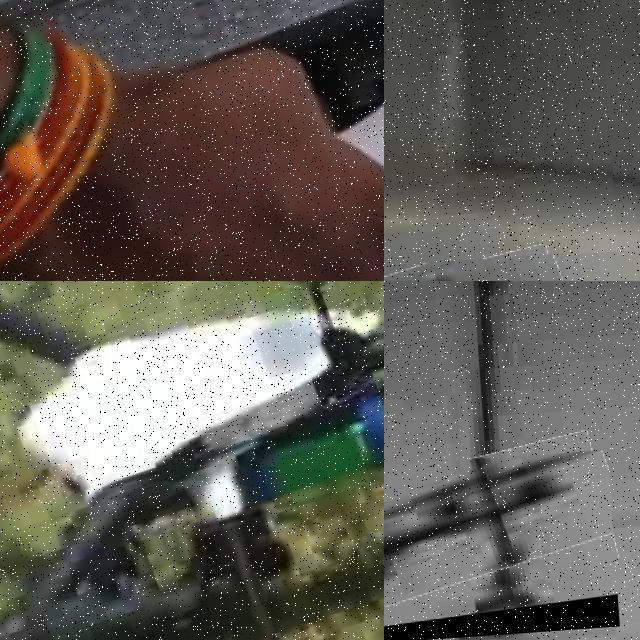drone: (0, 281, 384, 640), (0, 0, 384, 281), (384, 449, 619, 640)
